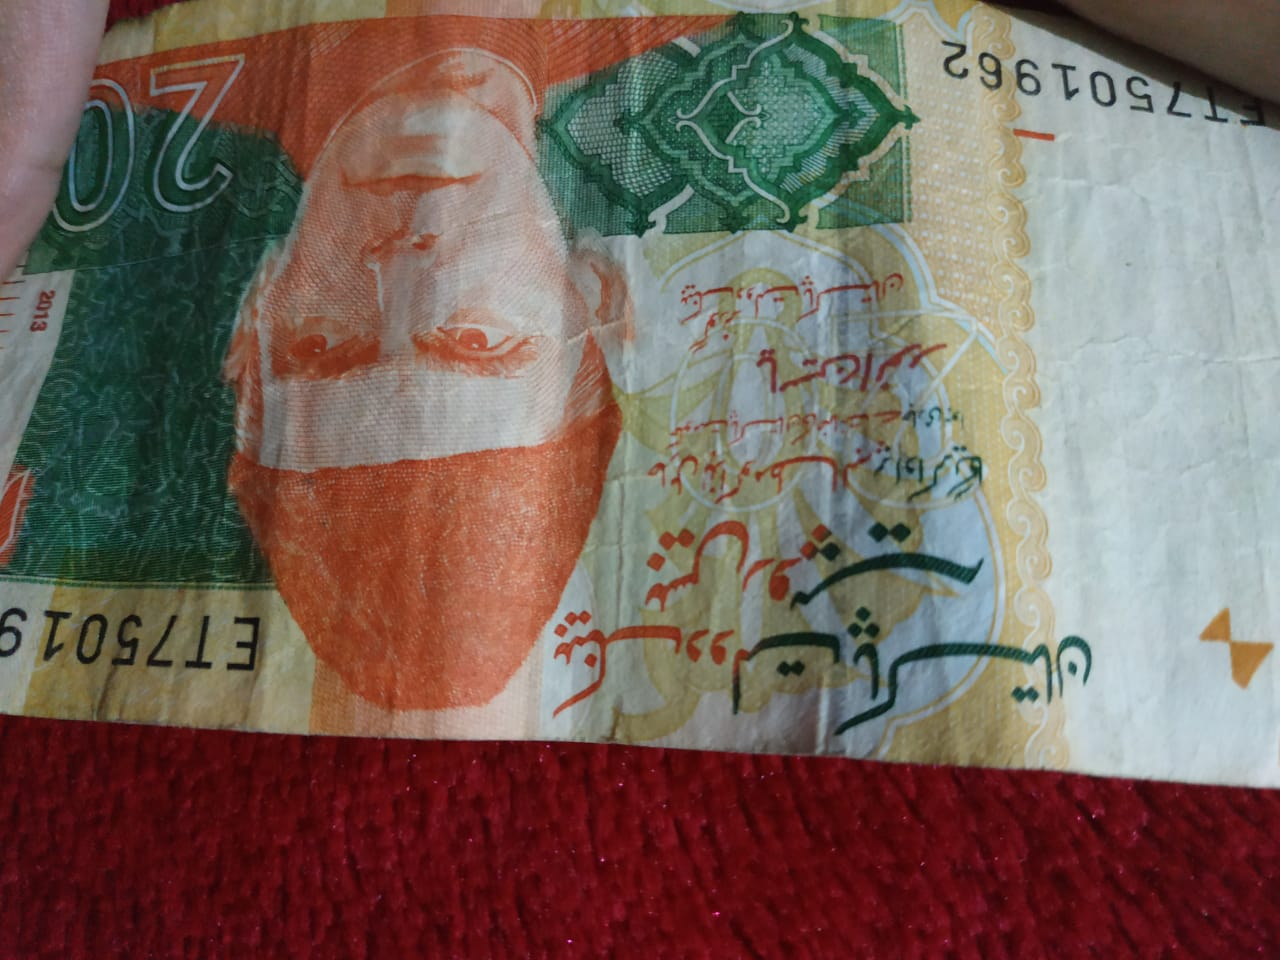20 rupee: (13, 4, 1280, 801)
